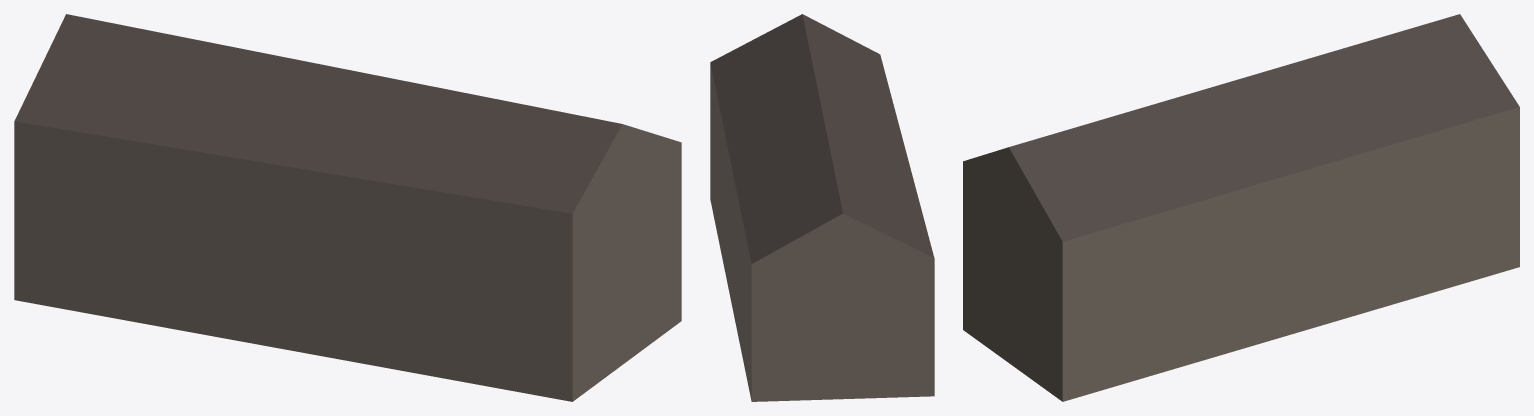
3 views of the same model, side by side, from view 1: azimuth 30°, elevation 25°; view 2: azimuth 150°, elevation 25°; view 3: azimuth 270°, elevation 25° (orthographic). The views are drawn at different scales.
Visible parts, largest first — view 1: HP-w369237932; view 2: HP-w369237932; view 3: HP-w369237932.
Boxes of the visible parts, x1,y1,x2,y2 form: HP-w369237932: (14, 14, 681, 401); HP-w369237932: (710, 14, 934, 401); HP-w369237932: (963, 14, 1519, 401).
Bounding box in the file's own units: 25.25 × 12.13 × 28.37.
